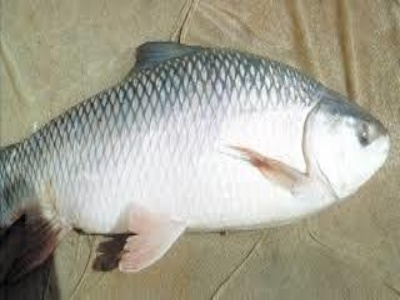rohu: (4, 30, 399, 277)
